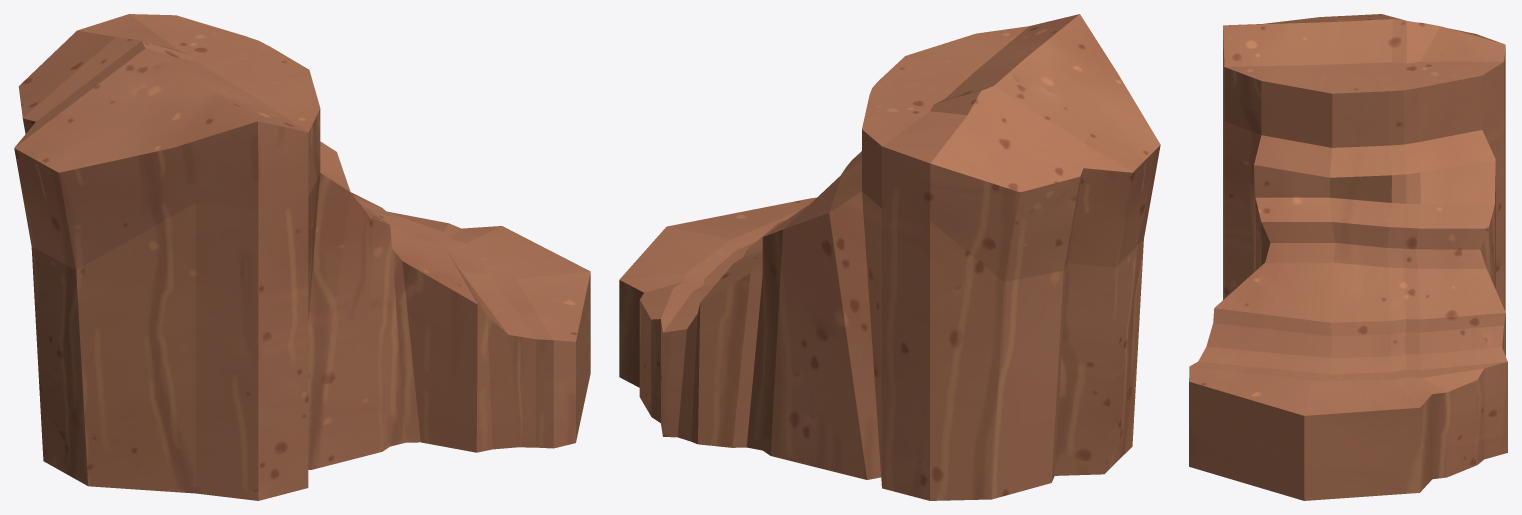
File: big_rock01.fbx
3 views of the same model, side by side, from view 1: azimuth 30°, elevation 25°; view 2: azimuth 150°, elevation 25°; view 3: azimuth 270°, elevation 25° (orthographic). The views are drawn at different scales.
Visible parts, largest first — view 1: big_rock01; view 2: big_rock01; view 3: big_rock01.
Boxes of the visible parts, x1,y1,x2,y2 form: big_rock01: (14,14,590,500); big_rock01: (619,14,1160,500); big_rock01: (1189,14,1507,500).
Bounding box in the file's own units: 2.52 × 1.56 × 1.74.
